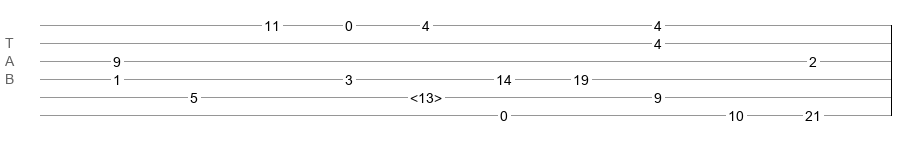0: (345, 18, 353, 28), (500, 108, 508, 118)
1: (113, 72, 121, 82)
10: (728, 108, 744, 118)
11: (264, 18, 280, 28)
14: (496, 72, 512, 82)
19: (573, 72, 589, 82)
2: (809, 54, 817, 64)
21: (805, 108, 821, 118)
3: (345, 72, 353, 82)
4: (422, 18, 430, 28), (654, 36, 662, 46), (654, 18, 662, 28)
5: (190, 90, 198, 100)
9: (113, 54, 121, 64), (654, 90, 662, 100)
harmonic: (410, 90, 442, 100)
